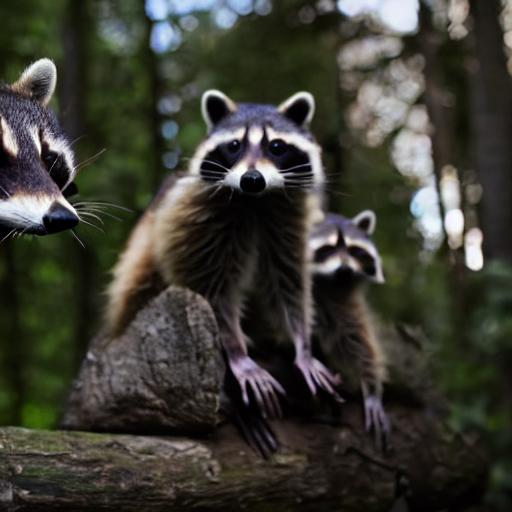raccoon: (108, 88, 329, 342), (0, 52, 96, 245), (312, 207, 386, 363)
